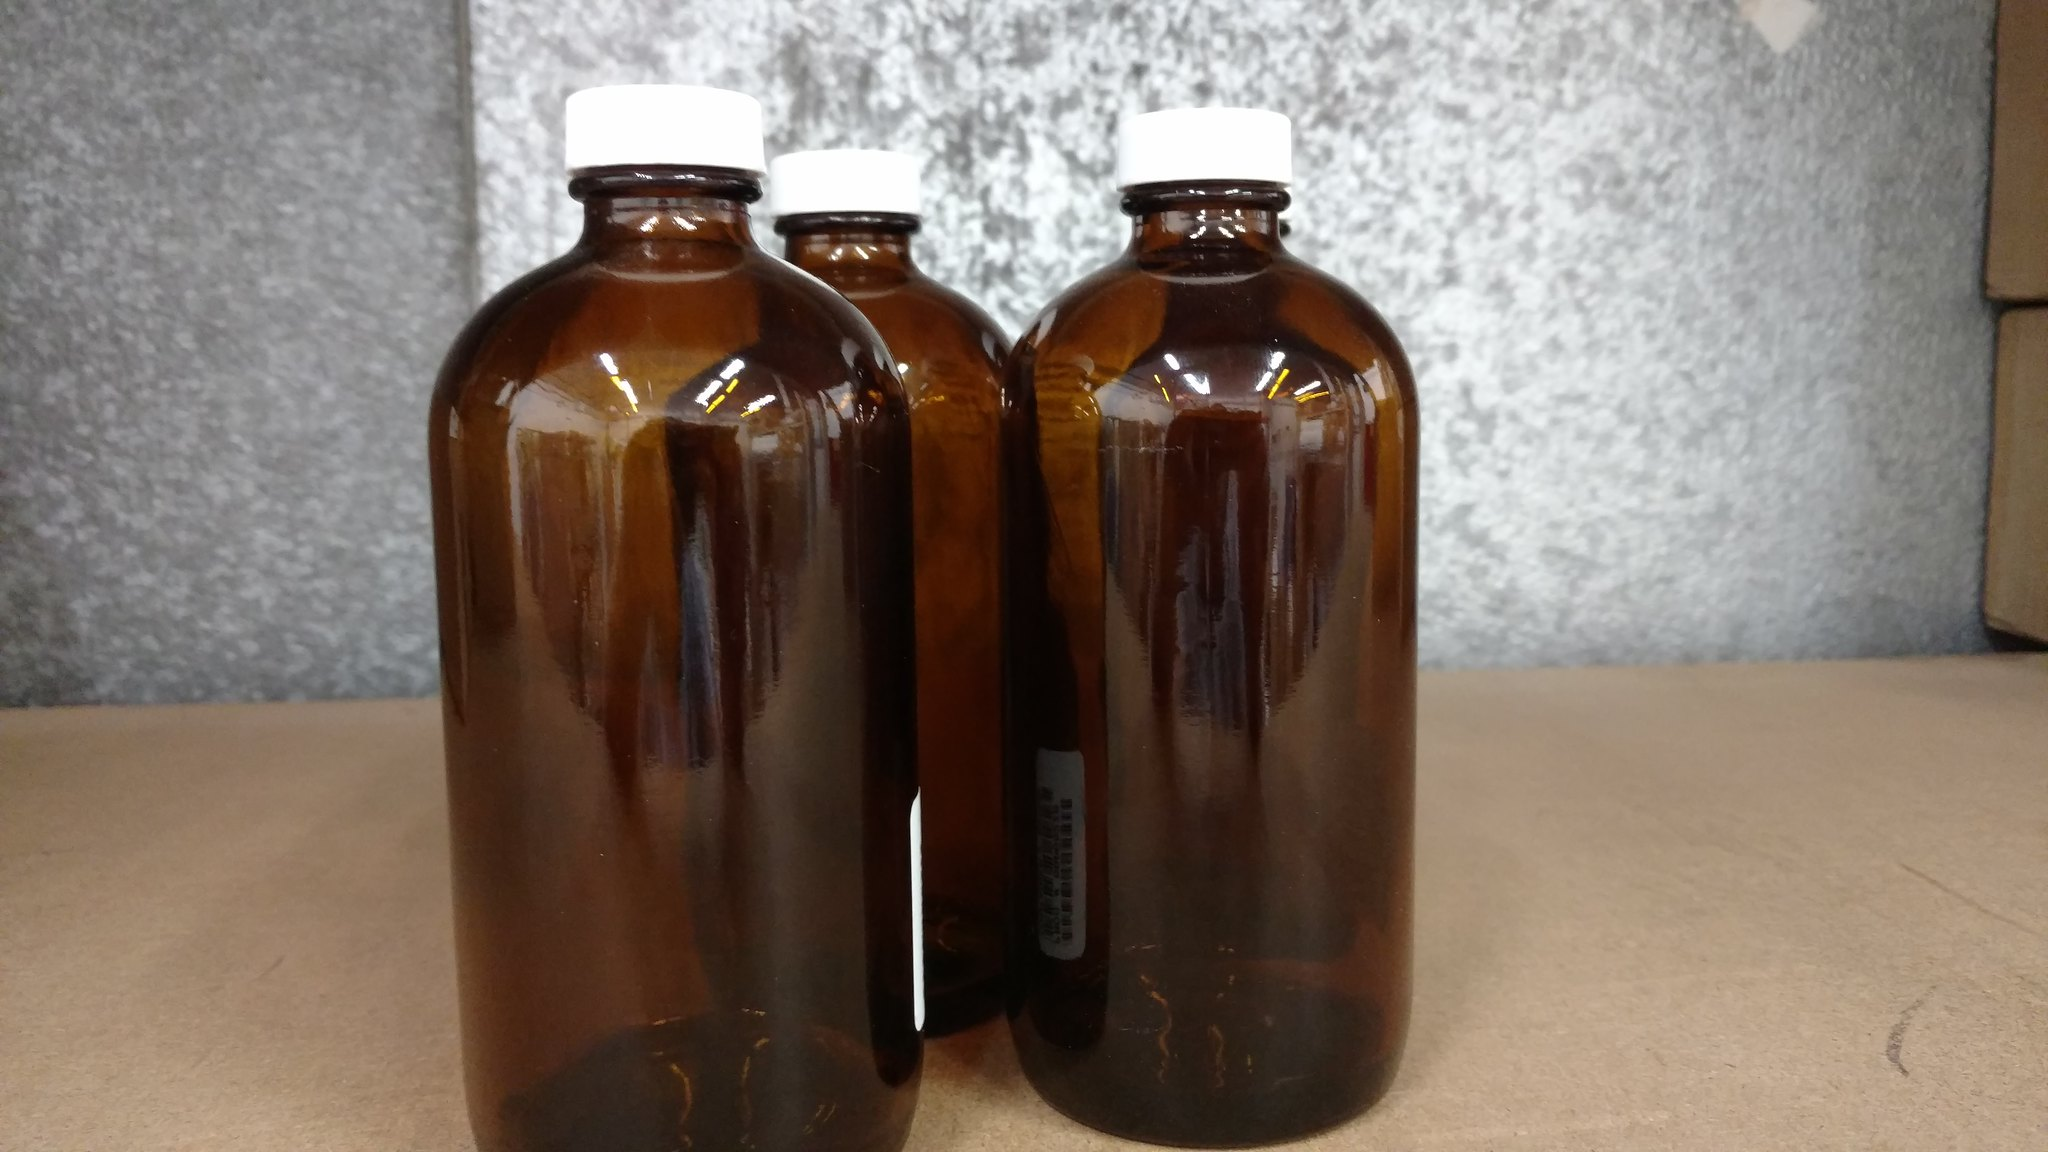bottle: (415, 79, 942, 1152), (1001, 105, 1428, 1144), (768, 145, 987, 314)
